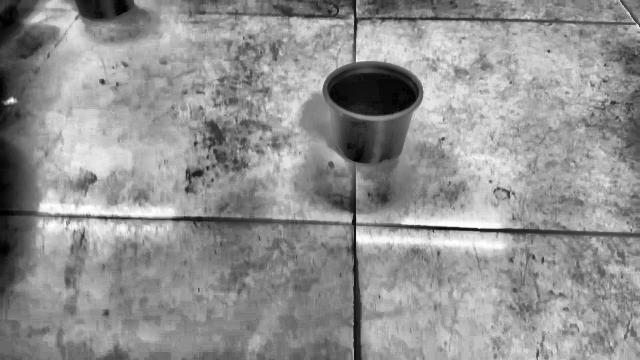pot: (323, 63, 423, 163)
